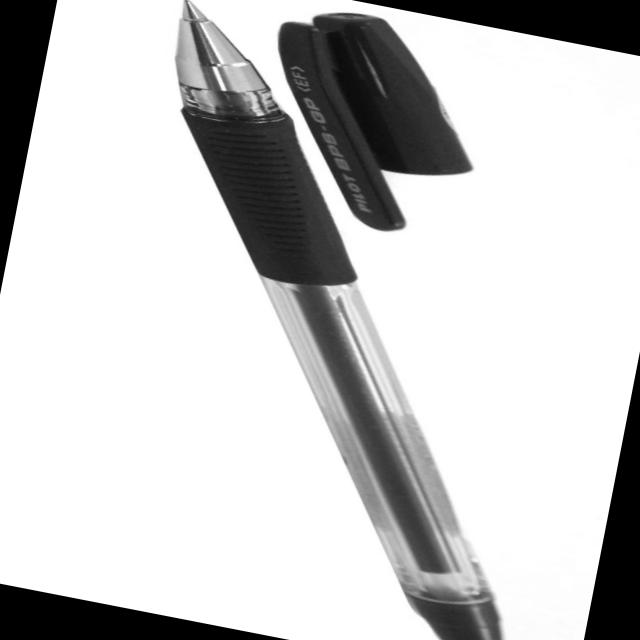pen: (72, 0, 612, 640)
